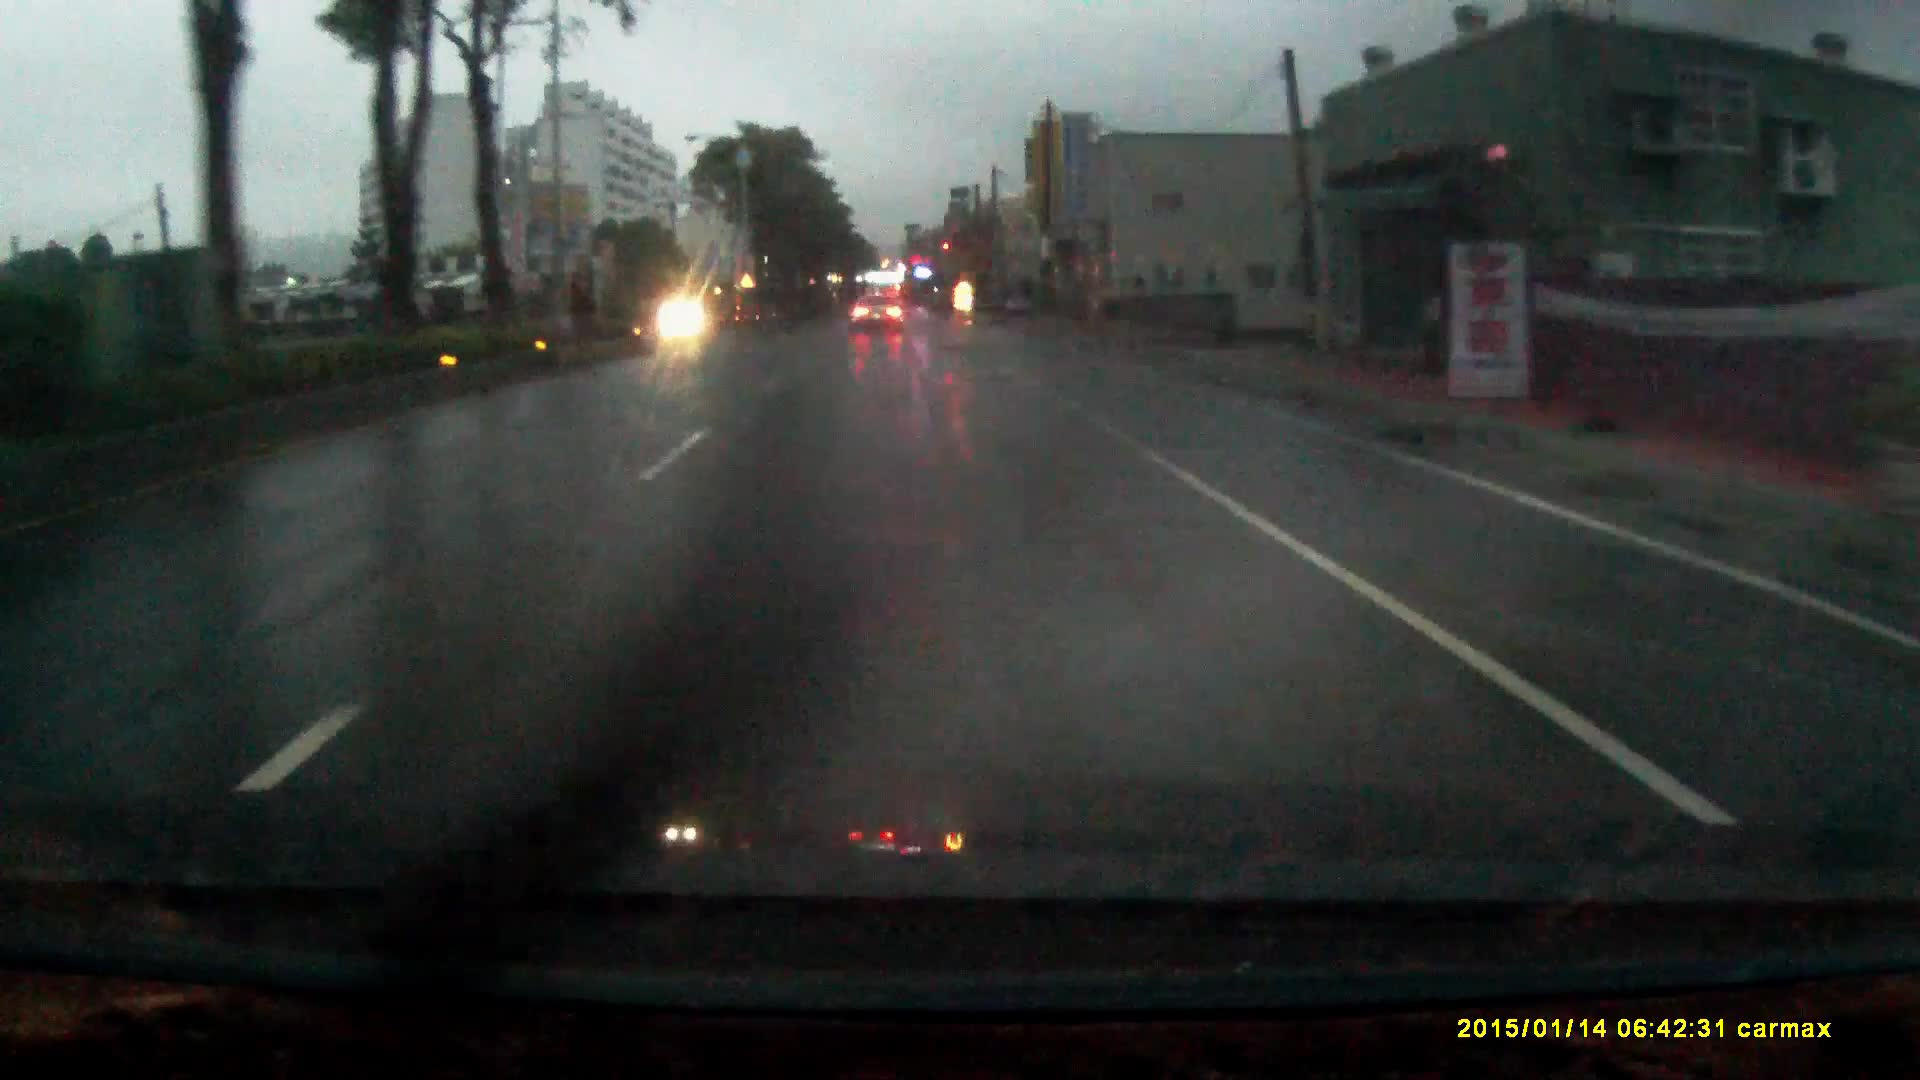vehicle: (851, 298, 903, 343), (1004, 282, 1040, 323)
